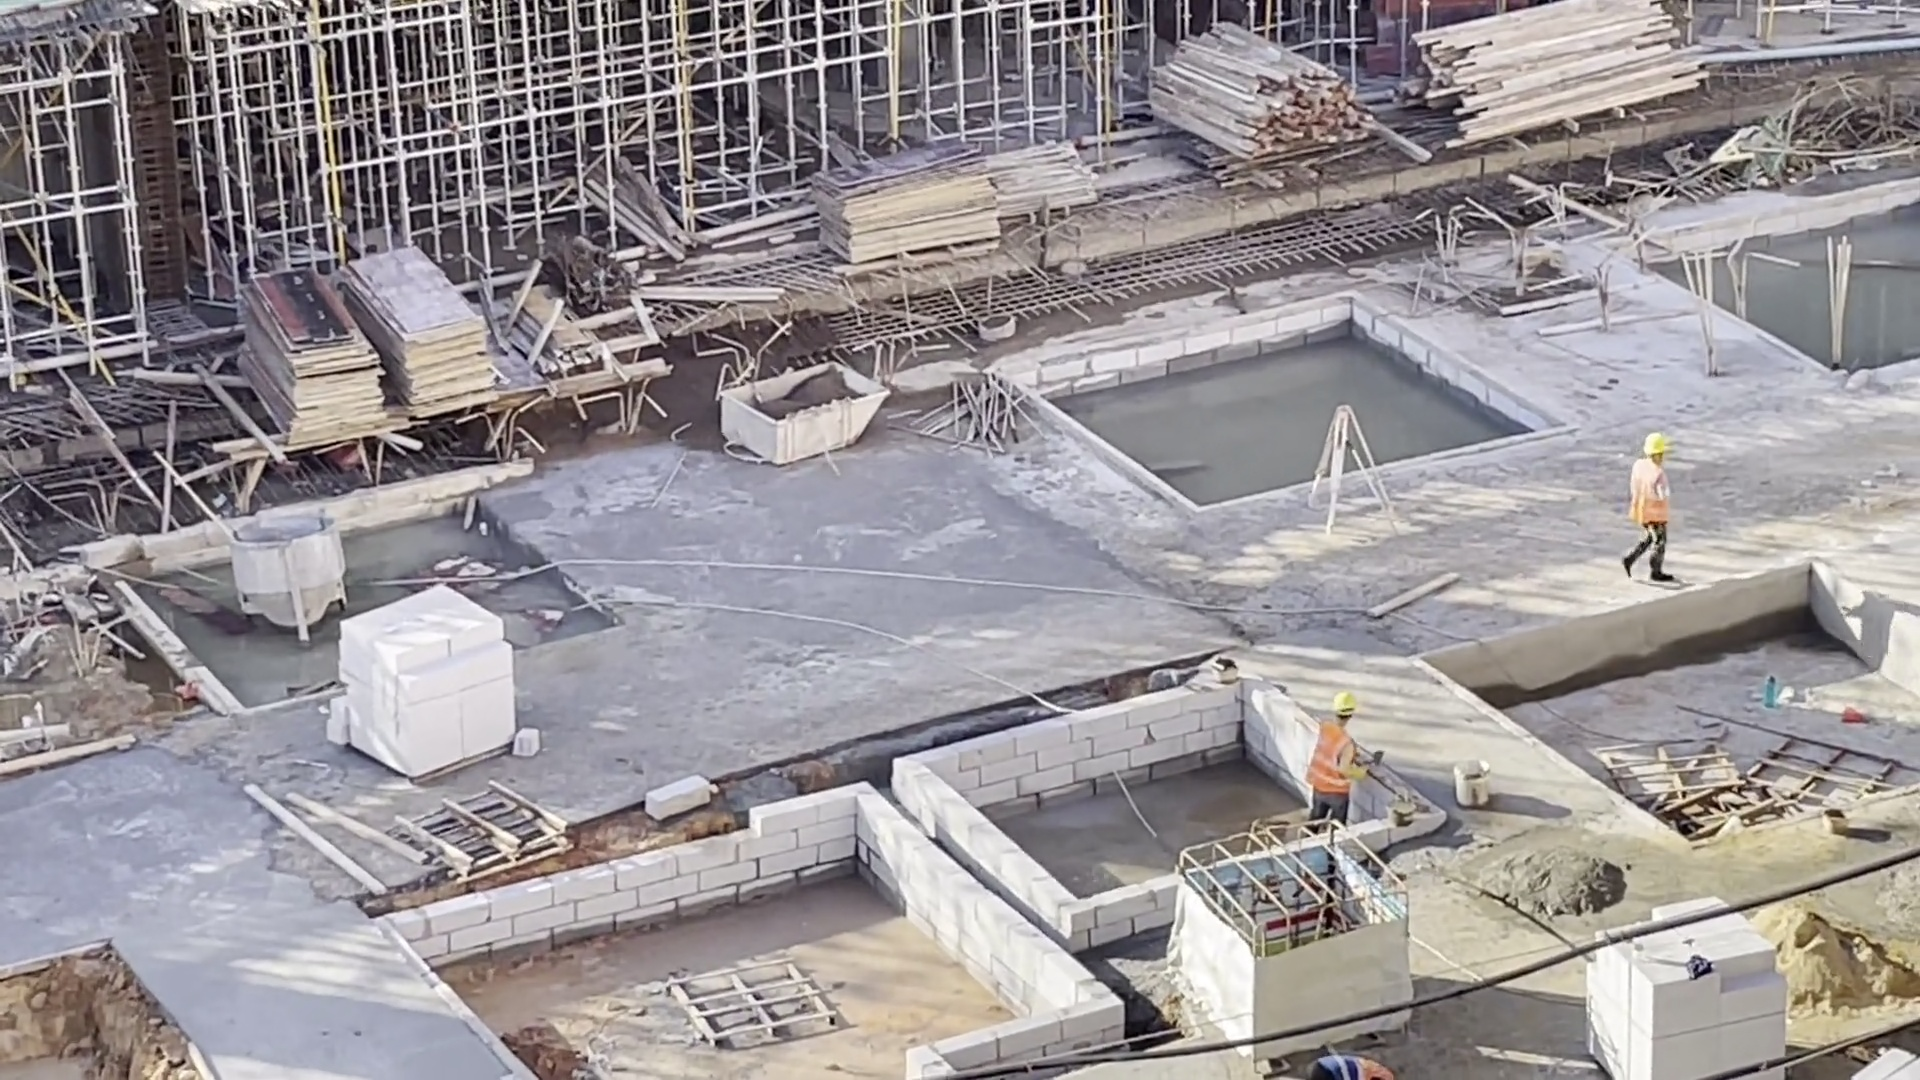board: (334, 261, 501, 422), (798, 157, 996, 281), (266, 286, 363, 446)
brick: (328, 592, 520, 765), (1614, 922, 1814, 1069)
helmet: (1333, 687, 1358, 719), (1646, 439, 1666, 467)
hopper: (709, 369, 882, 466)
person: (1319, 680, 1366, 803), (1641, 435, 1678, 588), (1306, 1055, 1402, 1080)
vest: (1634, 467, 1679, 526), (1323, 1052, 1391, 1079), (1321, 736, 1359, 779)
wood: (1413, 1, 1689, 137), (1201, 31, 1334, 152)
